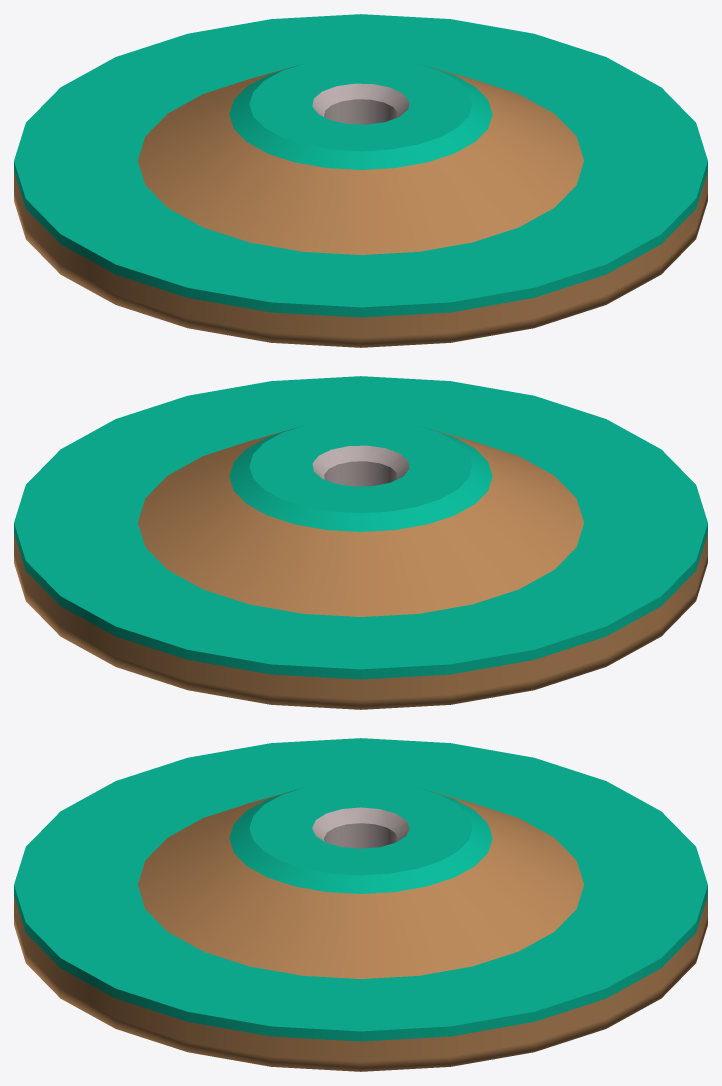
File: hole_hill.fbx
3 renders of one model, top to bottom at view 1: azimuth 30°, elevation 25°; view 2: azimuth 150°, elevation 25°; view 3: azimuth 270°, elevation 25°, orthographic.
Visible parts, largest first — view 1: Boole; view 2: Boole; view 3: Boole.
Part boxes in pixels (x1,y1,x2,y2): Boole: (14,14,707,347); Boole: (14,376,707,709); Boole: (14,738,707,1071).
Bounding box in the file's own units: 3110 × 480 × 3110.
